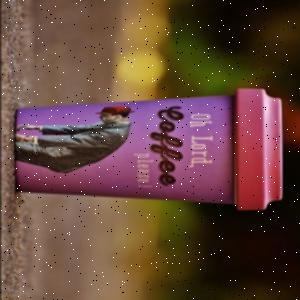Cup: (14, 89, 282, 212)
